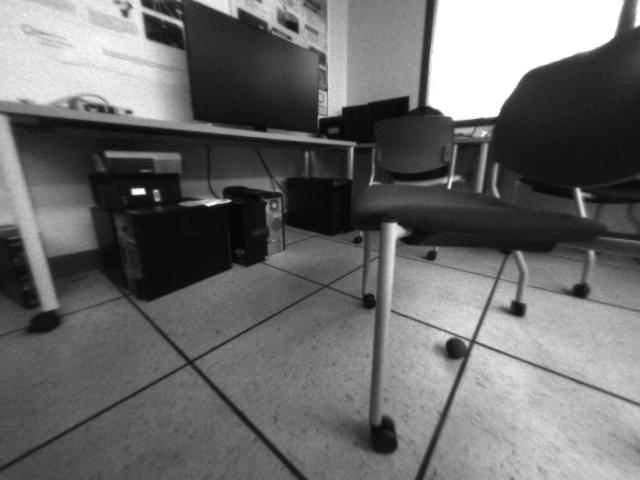dogtoy: (442, 330, 470, 363)
